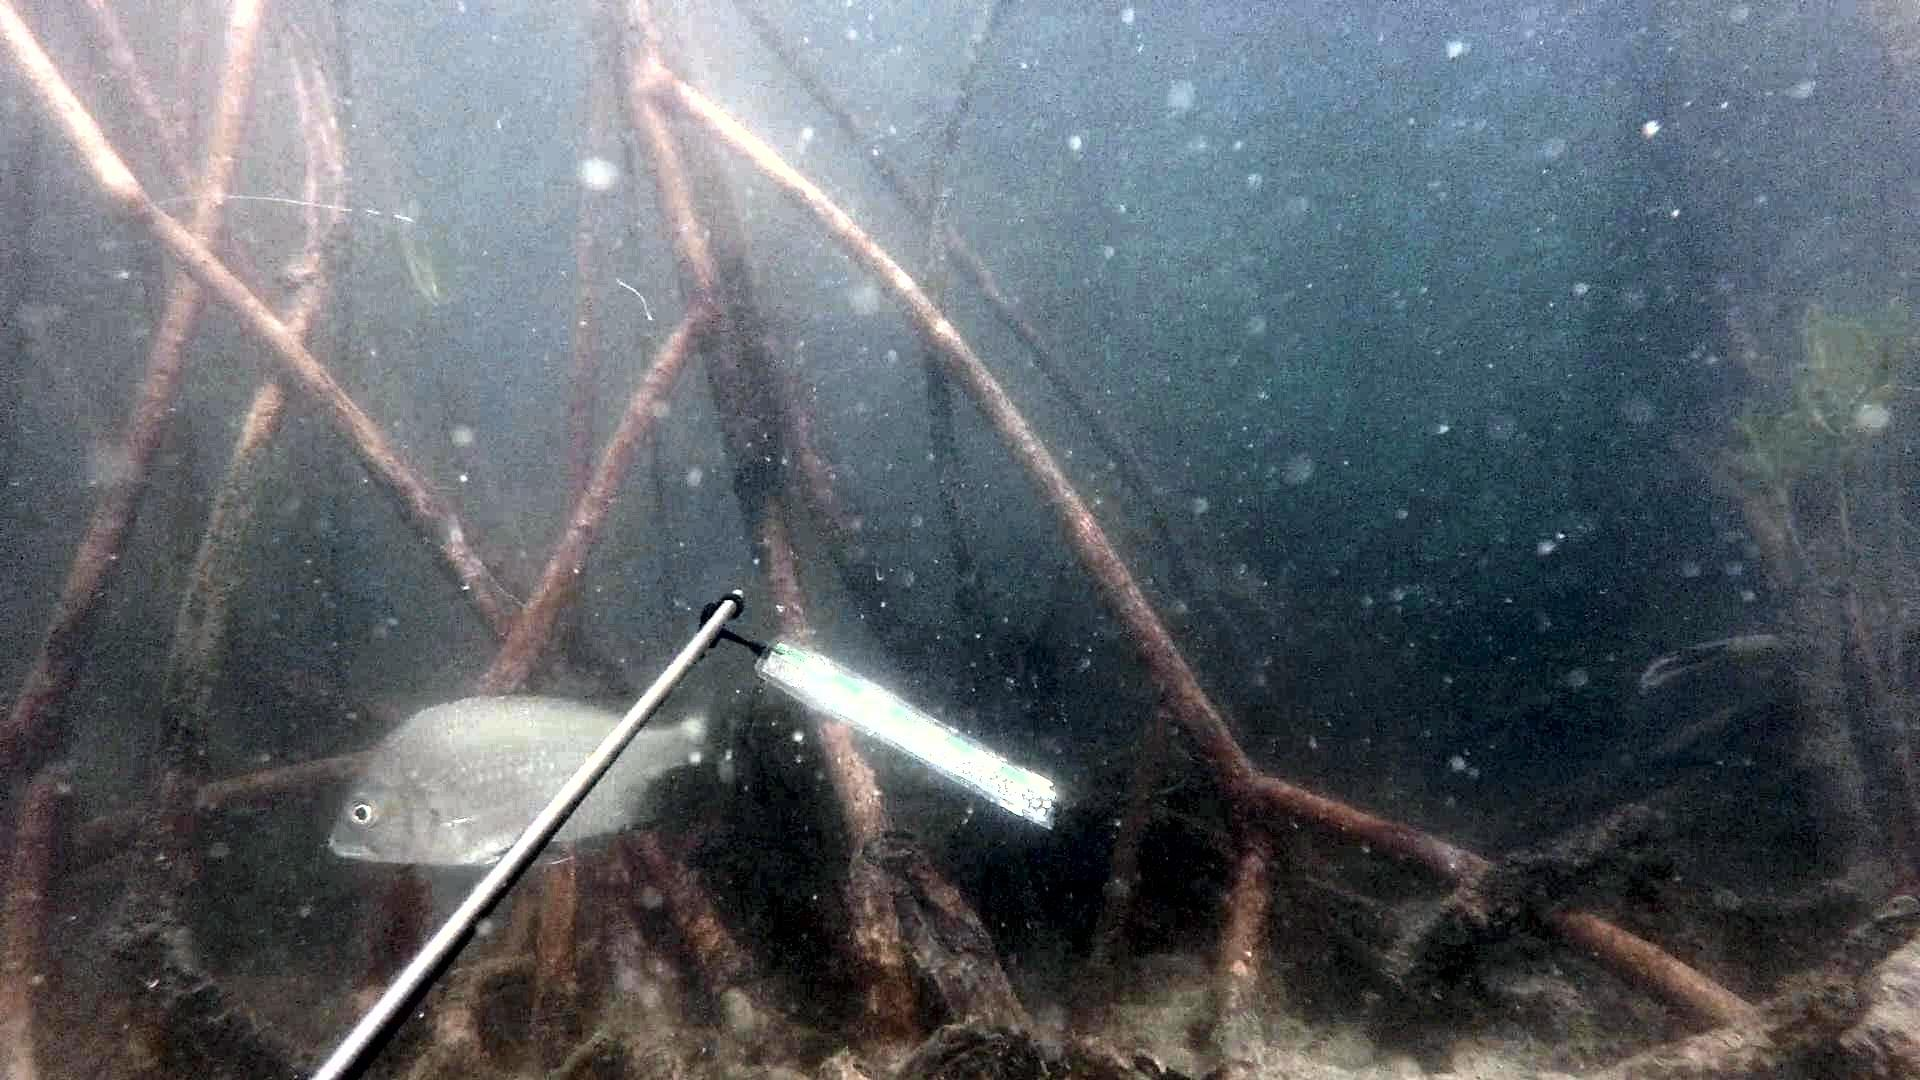acanthopagrus palmaris: (311, 680, 775, 873)
